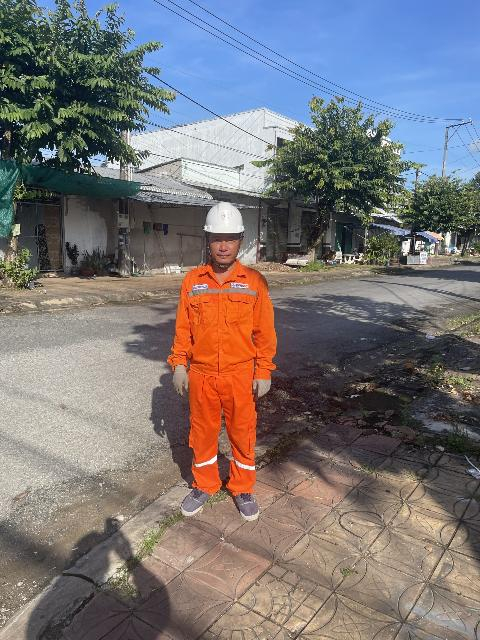gloves: (163, 361, 195, 405), (241, 369, 277, 404)
helmet: (192, 197, 254, 239)
shoes: (169, 480, 222, 522), (231, 477, 271, 529)
